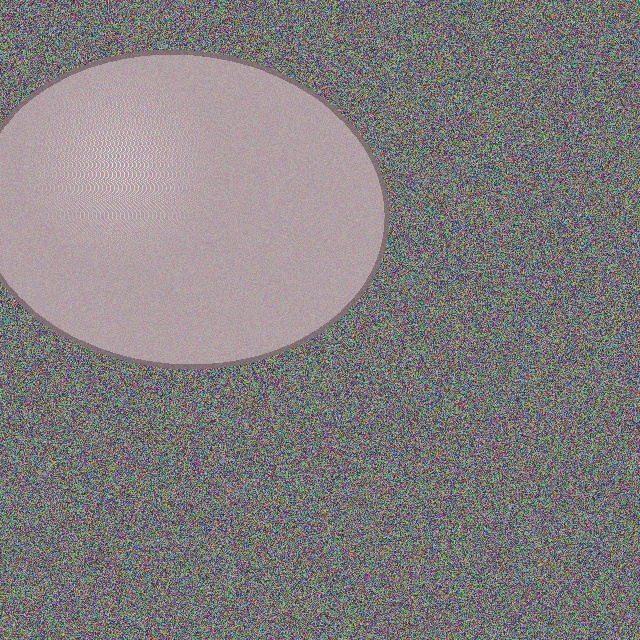lens: (0, 53, 386, 365)
